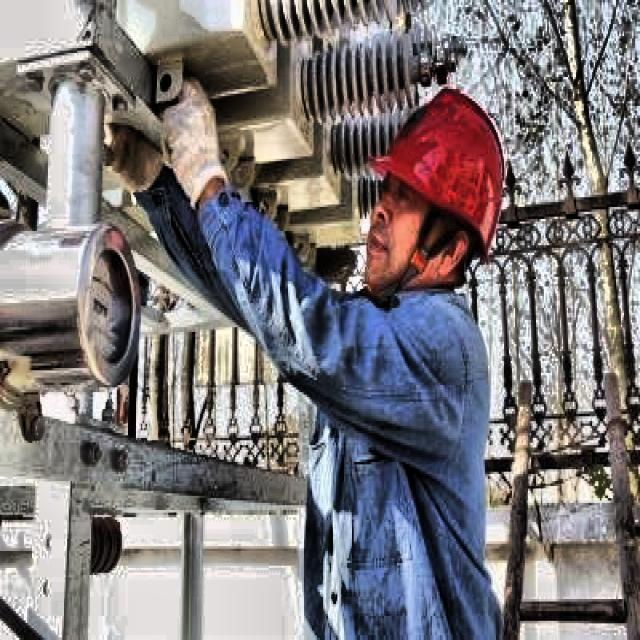helmet: (350, 65, 522, 310)
